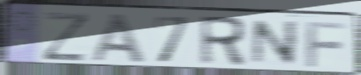7: (152, 14, 189, 65)
A: (89, 12, 149, 65)
F: (304, 19, 351, 69)
N: (249, 19, 301, 67)
R: (198, 15, 248, 69)
Z: (41, 10, 92, 63)
